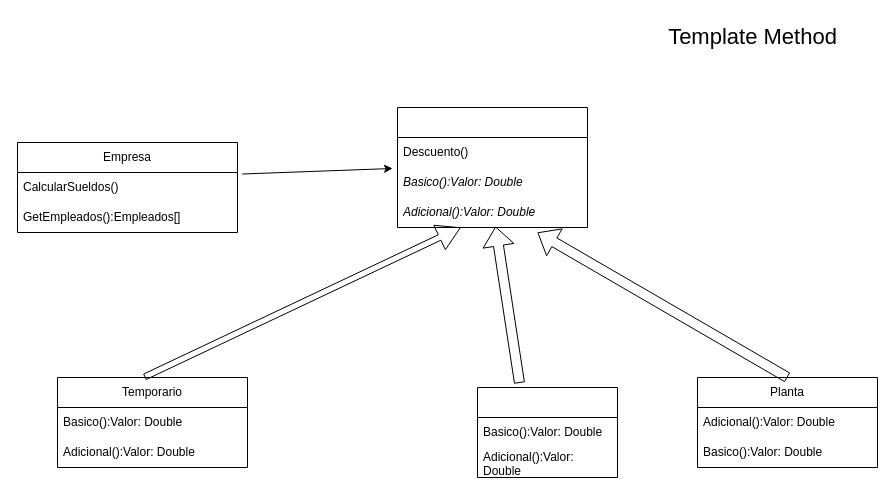
Some shapes in this 895 by 495 pixel diagram are drawn without their labels. The shapes that lost their labels are listed below. From the top down, each one's box as (x1, y1, x2, y2) in pixels, then its label:
(396, 106, 588, 228): Empleado
(476, 386, 618, 478): Pasante
